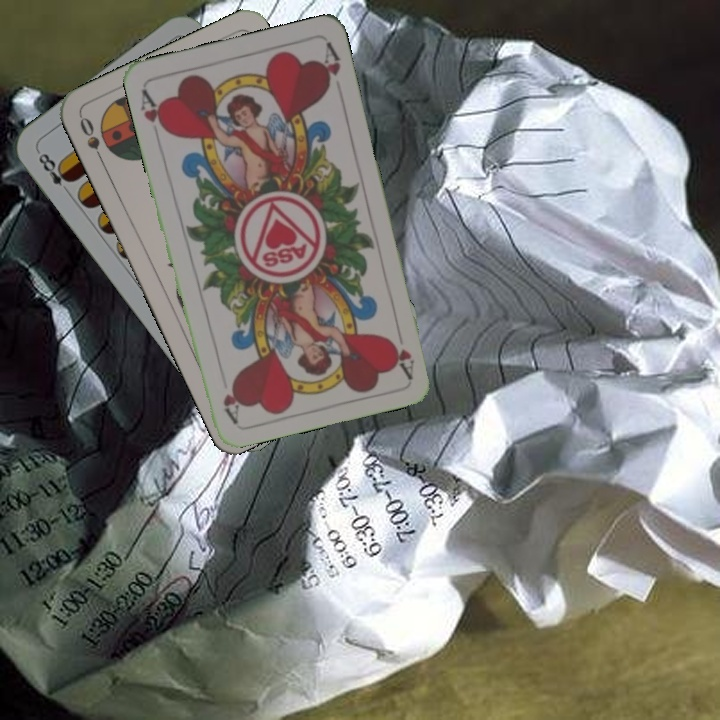E8: (33, 147, 76, 189)
HA: (136, 84, 171, 138), (384, 333, 418, 380)
SO: (75, 113, 108, 168)
